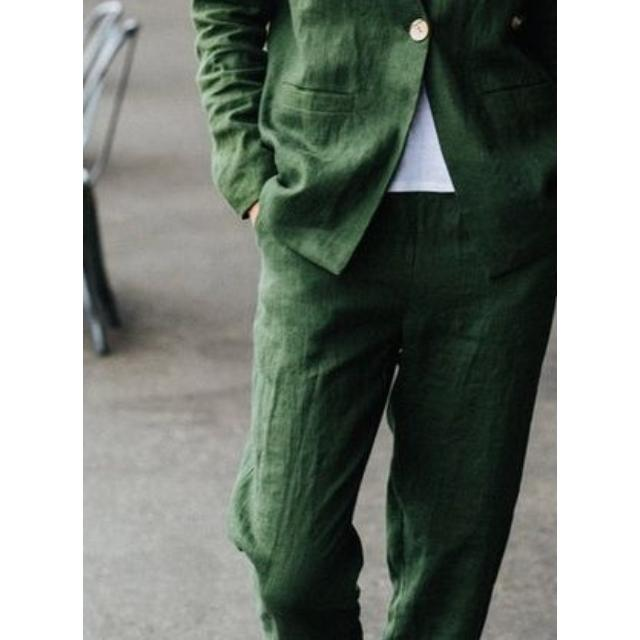linen: (207, 0, 558, 640)
